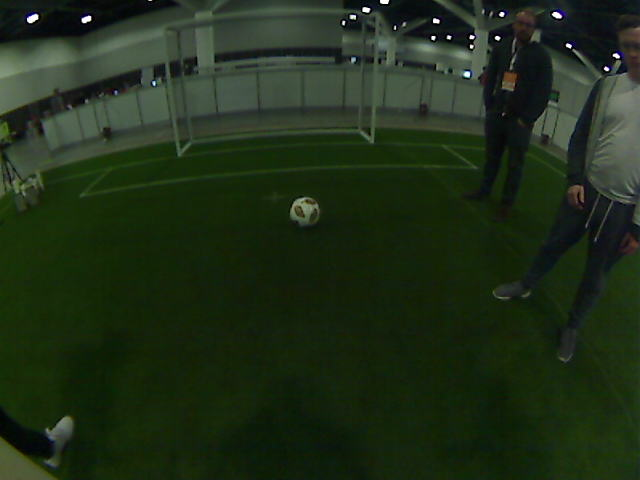ball: (286, 191, 326, 231)
goalpost: (353, 83, 393, 143), (165, 100, 195, 156)
robot: (14, 165, 36, 202)
